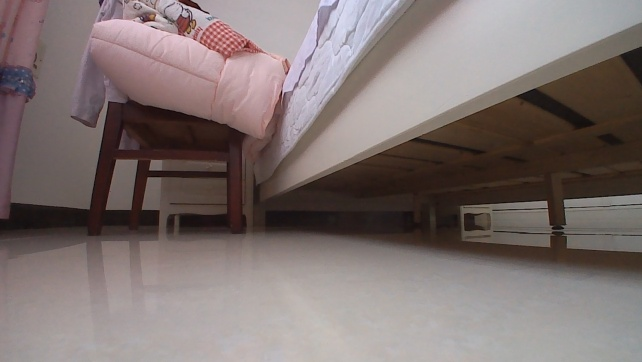bed1: (257, 0, 641, 226)
cabinet_bed: (155, 147, 255, 230)
